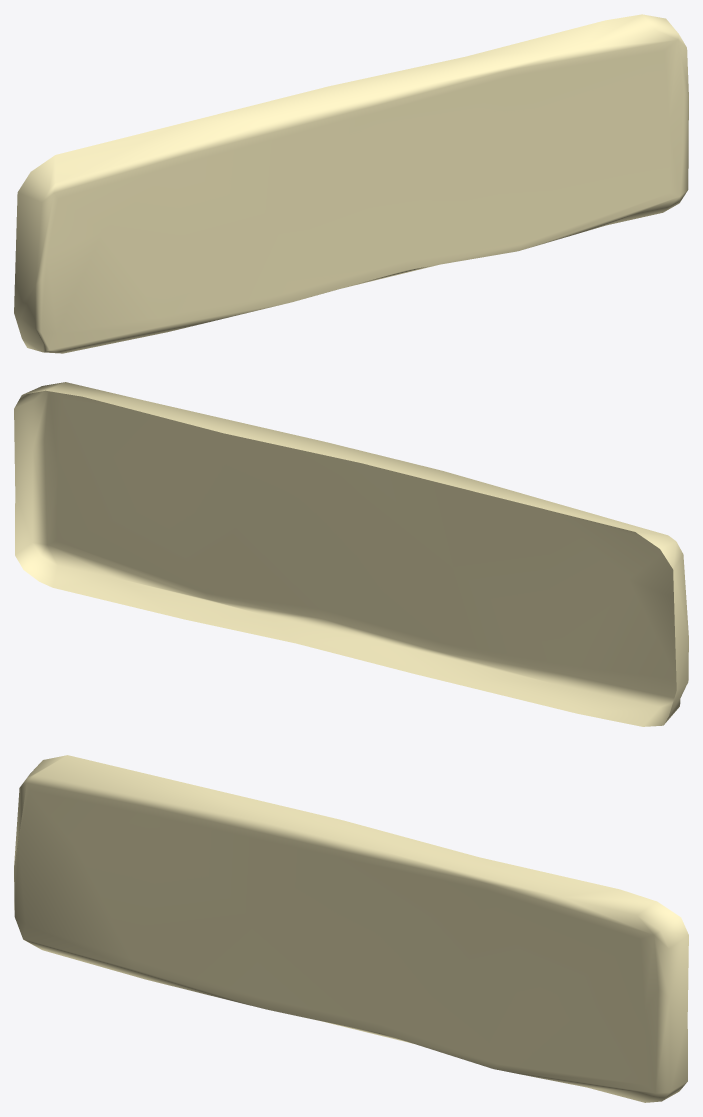
The model's file is ui_button_10x3.glb.
The picture shows the model from 3 angles, top to bottom: view 1: azimuth 30°, elevation 25°; view 2: azimuth 150°, elevation 25°; view 3: azimuth 330°, elevation 25°; orthographic projection.
Visible parts, largest first — view 1: Cube; view 2: Cube; view 3: Cube.
Part boxes in pixels (x1=…): Cube: x1=14, y1=14, x2=688, y2=353; Cube: x1=14, y1=382, x2=688, y2=726; Cube: x1=14, y1=755, x2=688, y2=1102.
Bounding box in the file's own units: 1.9 × 0.547 × 0.1086.
